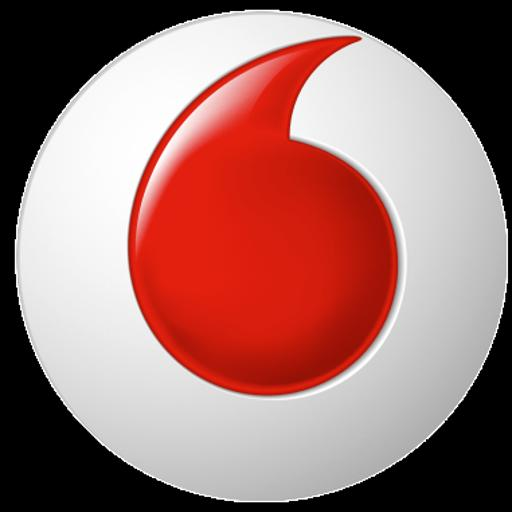Vodafone: (0, 3, 512, 509)
